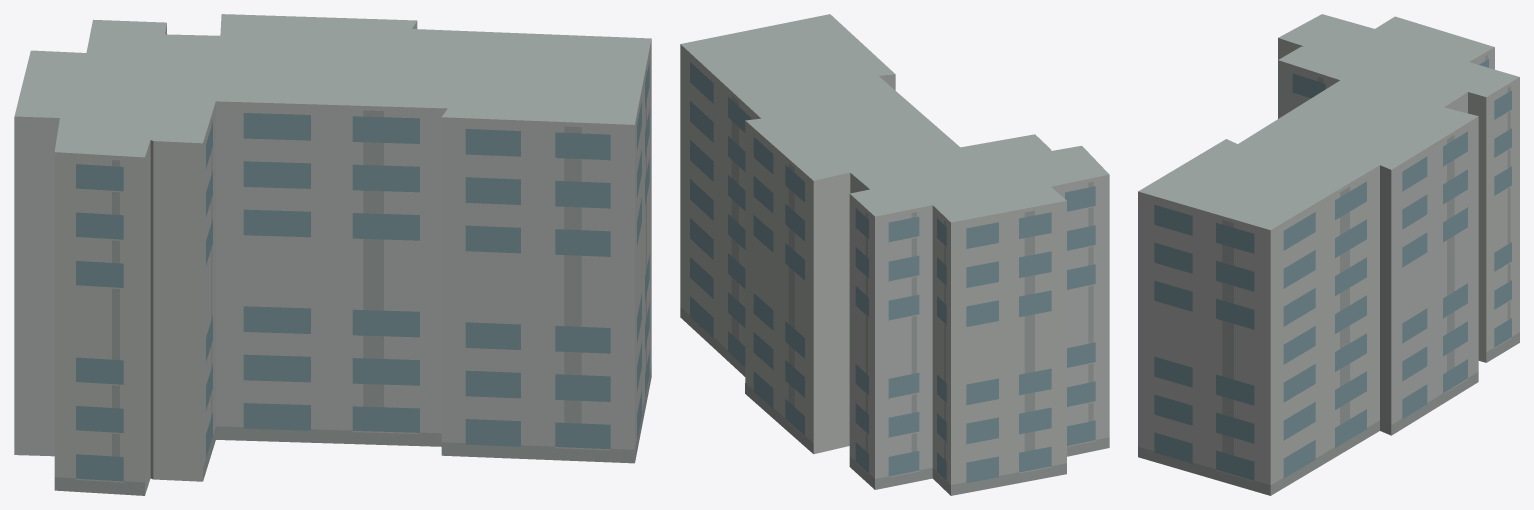
The model's file is survey-upis-32963869.glb.
The picture shows the model from 3 angles, left to right: view 1: azimuth 30°, elevation 25°; view 2: azimuth 150°, elevation 25°; view 3: azimuth 270°, elevation 25°; orthographic projection. The views are drawn at different scales.
Visible parts, largest first — view 1: survey-upis-32963869.tmp; view 2: survey-upis-32963869.tmp; view 3: survey-upis-32963869.tmp.
Part boxes in pixels (<box>): survey-upis-32963869.tmp: <box>14,14,651,495</box>; survey-upis-32963869.tmp: <box>680,14,1109,495</box>; survey-upis-32963869.tmp: <box>1138,14,1519,495</box>.
Bounding box in the file's own units: 31.81 × 18.23 × 23.75.
